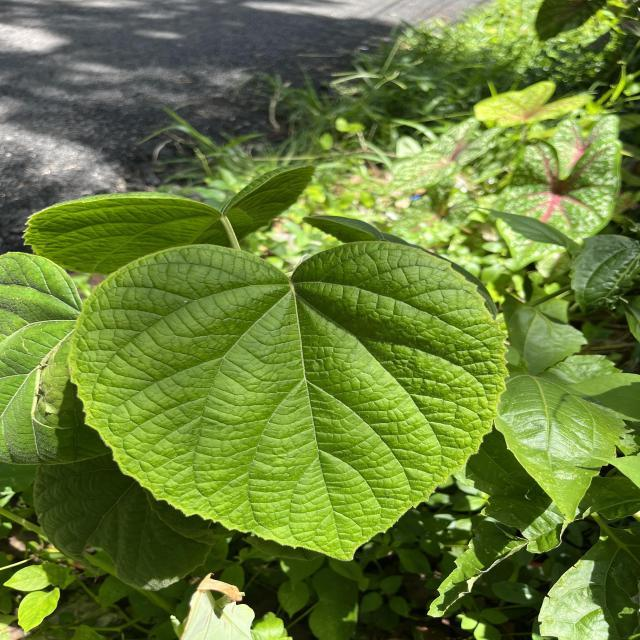Clerodendrum infortunatum: (66, 236, 508, 564)
